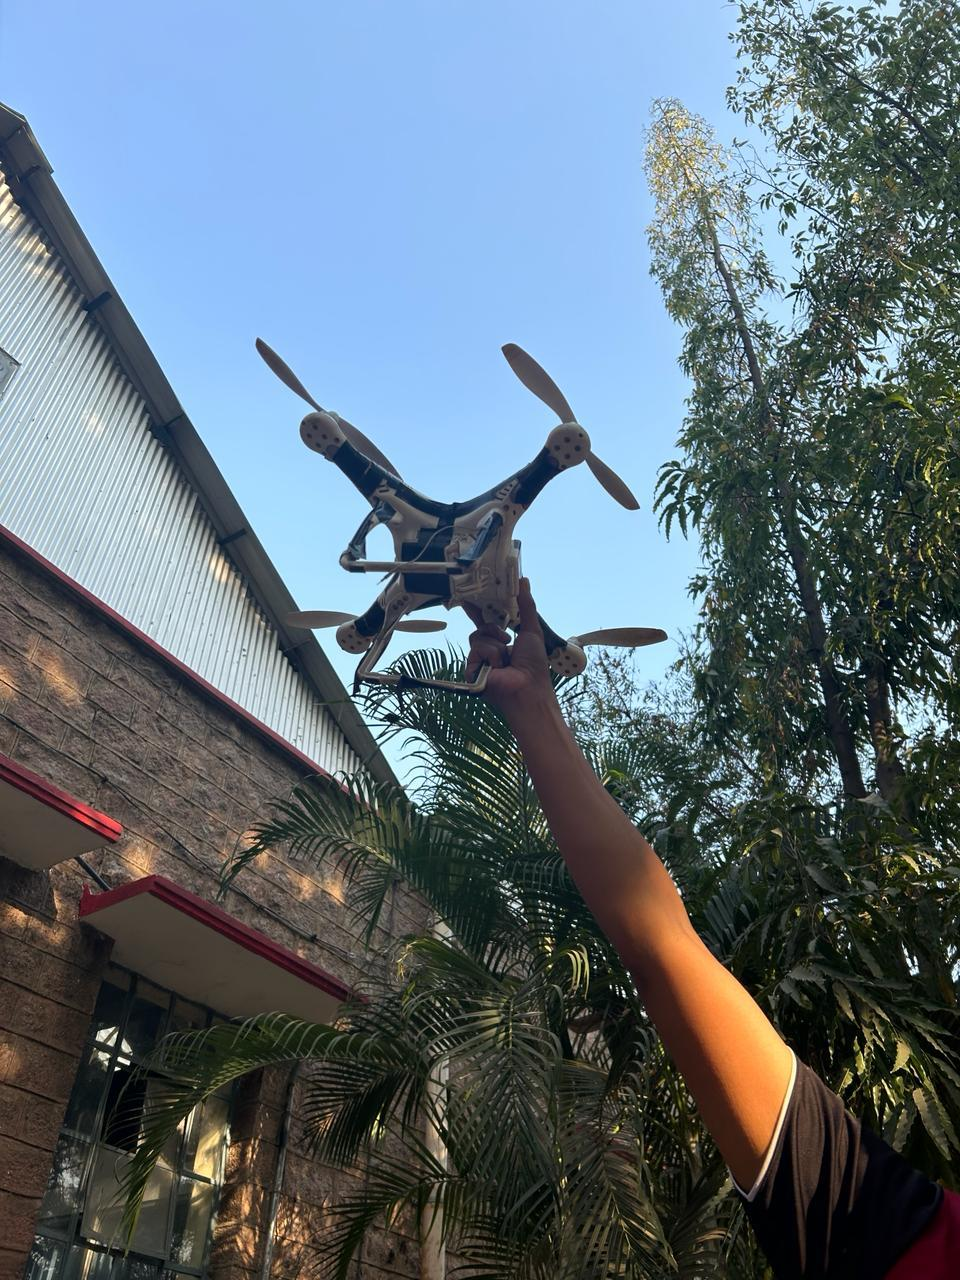drone: (204, 280, 735, 773)
